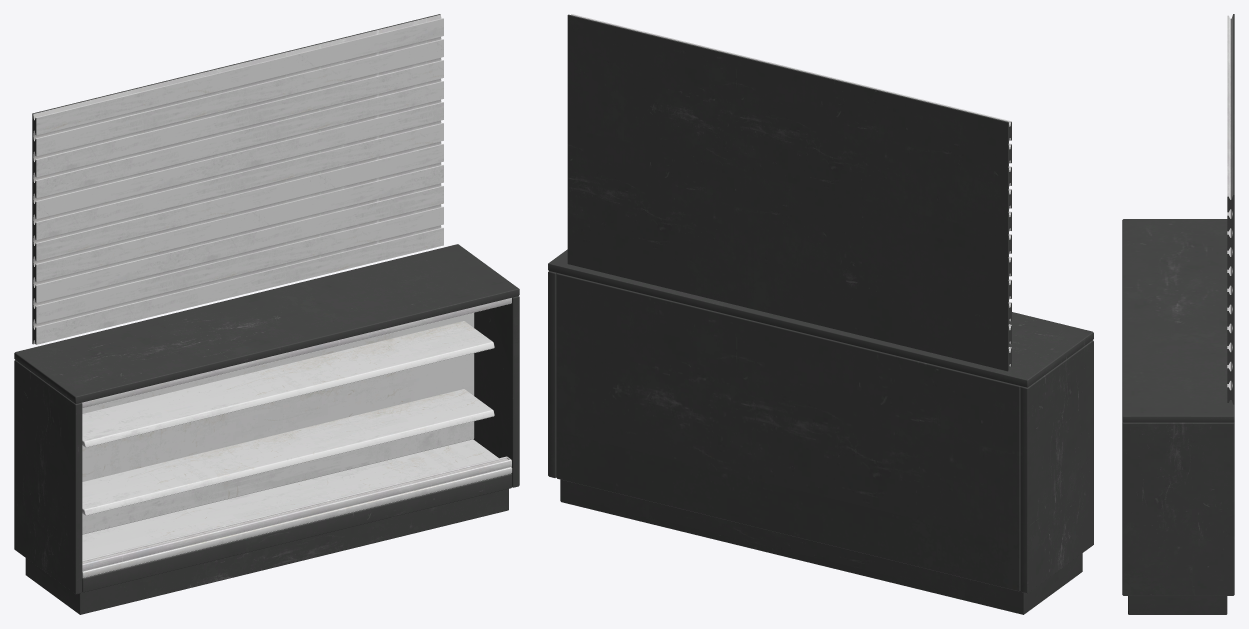
File: SM_Gun_Display_02a.glb
The picture shows the model from 3 angles, left to right: view 1: azimuth 30°, elevation 25°; view 2: azimuth 150°, elevation 25°; view 3: azimuth 270°, elevation 25°; orthographic projection. The views are drawn at different scales.
Visible parts, largest first — view 1: SM_Gun_Display_02a; view 2: SM_Gun_Display_02a; view 3: SM_Gun_Display_02a.
Part boxes in pixels (left/top/right/bottom): SM_Gun_Display_02a: left=14, top=14, right=519, bottom=614; SM_Gun_Display_02a: left=548, top=14, right=1093, bottom=614; SM_Gun_Display_02a: left=1122, top=14, right=1234, bottom=614.
Size of the model in its own units: 2.5 by 2.45 by 0.6.
Materials: 1 (1 with a texture image).
